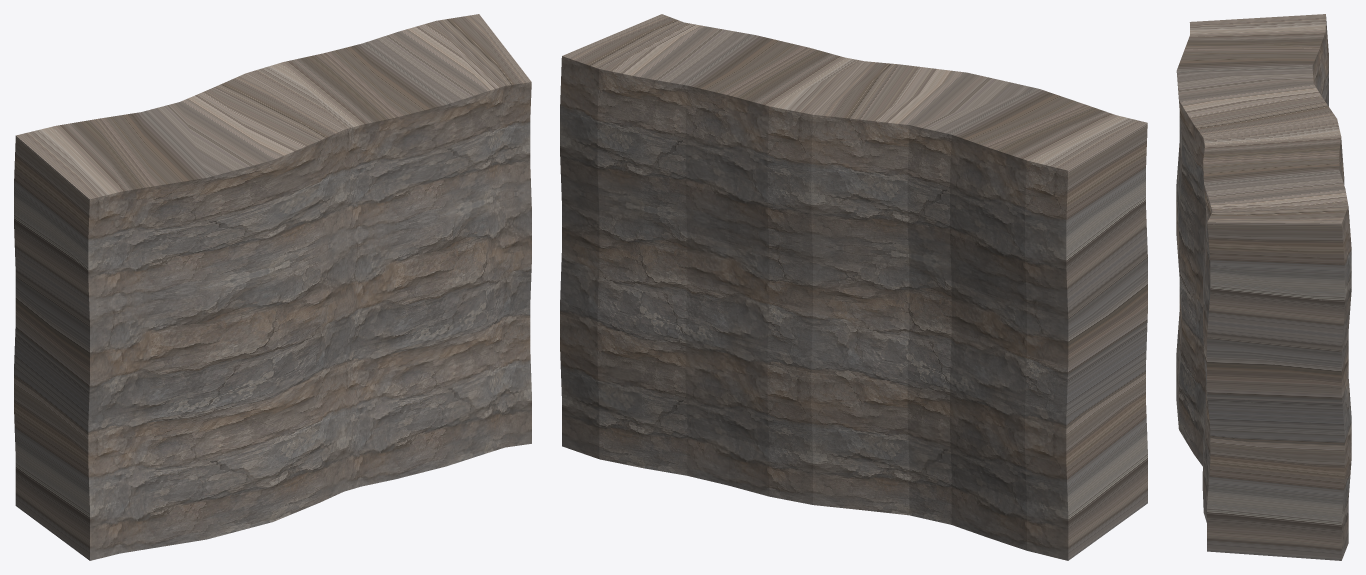
The model's file is cliff-straight.glb.
The picture shows the model from 3 angles, left to right: view 1: azimuth 30°, elevation 25°; view 2: azimuth 150°, elevation 25°; view 3: azimuth 270°, elevation 25°; orthographic projection. The views are drawn at different scales.
Parts seen in each view (by area): view 1: cliff-straight; view 2: cliff-straight; view 3: cliff-straight.
Part boxes in pixels (x1=…): cliff-straight: x1=14, y1=14, x2=531, y2=560; cliff-straight: x1=560, y1=14, x2=1147, y2=560; cliff-straight: x1=1176, y1=14, x2=1351, y2=560.
Size of the model in its own units: 4.01 by 3 by 1.41.
1 material, 1 textured.
